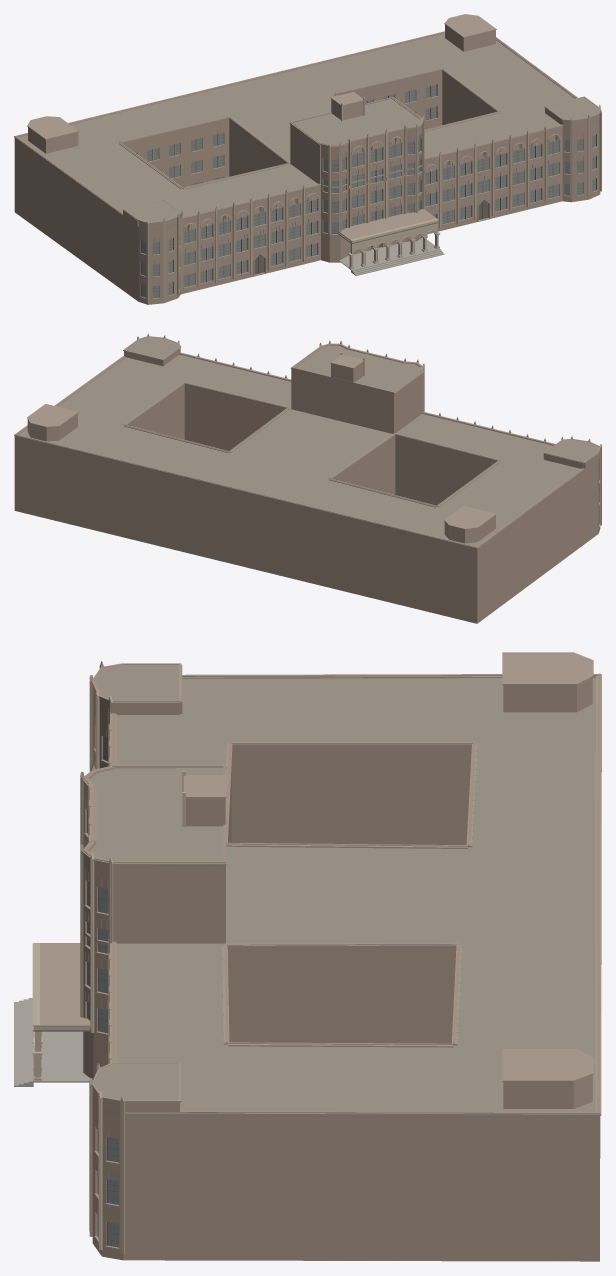
File: xuhui-yueyang-320-research-building-web.glb
The picture shows the model from 3 angles, top to bottom: view 1: azimuth 30°, elevation 25°; view 2: azimuth 150°, elevation 25°; view 3: azimuth 270°, elevation 25°; orthographic projection. The views are drawn at different scales.
Parts seen in each view (by area): view 1: 岳阳路320号在君楼（七券门廊与双内院）; view 2: 岳阳路320号在君楼（七券门廊与双内院）; view 3: 岳阳路320号在君楼（七券门廊与双内院）.
Part boxes in pixels (left/top/right/bottom): 岳阳路320号在君楼（七券门廊与双内院）: left=14, top=14, right=601, bottom=304; 岳阳路320号在君楼（七券门廊与双内院）: left=14, top=333, right=601, bottom=623; 岳阳路320号在君楼（七券门廊与双内院）: left=14, top=652, right=601, bottom=1261.
Size of the model in its own units: 95.85 by 26.41 by 54.1.
